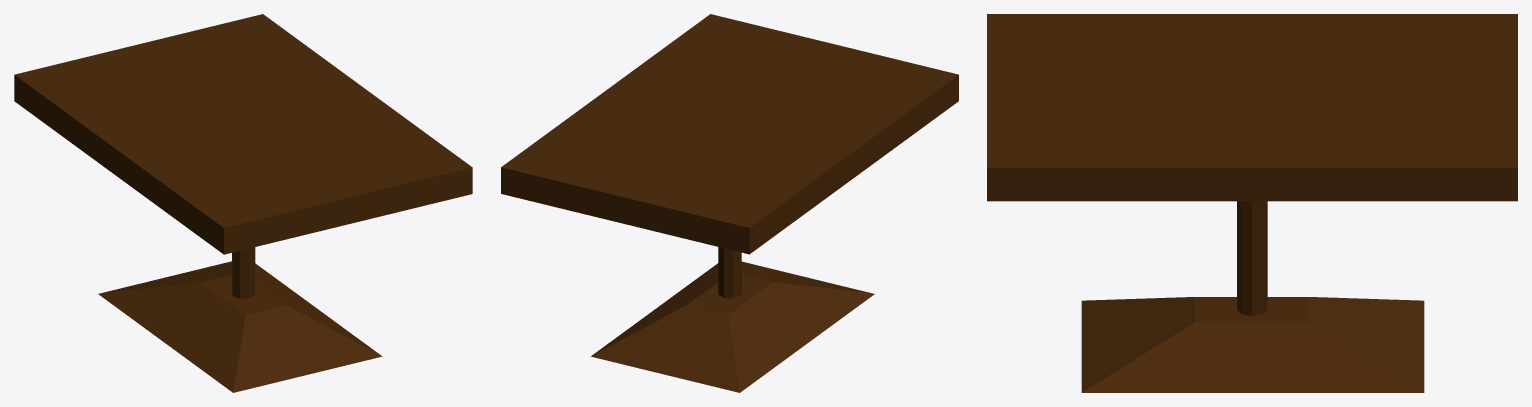
The model's file is BoothTable.fbx.
The picture shows the model from 3 angles, left to right: view 1: azimuth 30°, elevation 25°; view 2: azimuth 150°, elevation 25°; view 3: azimuth 270°, elevation 25°; orthographic projection. The views are drawn at different scales.
Visible parts, largest first — view 1: Booth table; view 2: Booth table; view 3: Booth table.
Part boxes in pixels (box(x1,y1,x2,y2)): Booth table: box(14, 14, 472, 392); Booth table: box(501, 14, 958, 392); Booth table: box(987, 14, 1517, 392).
Size of the model in its own units: 571 by 446 by 833.
